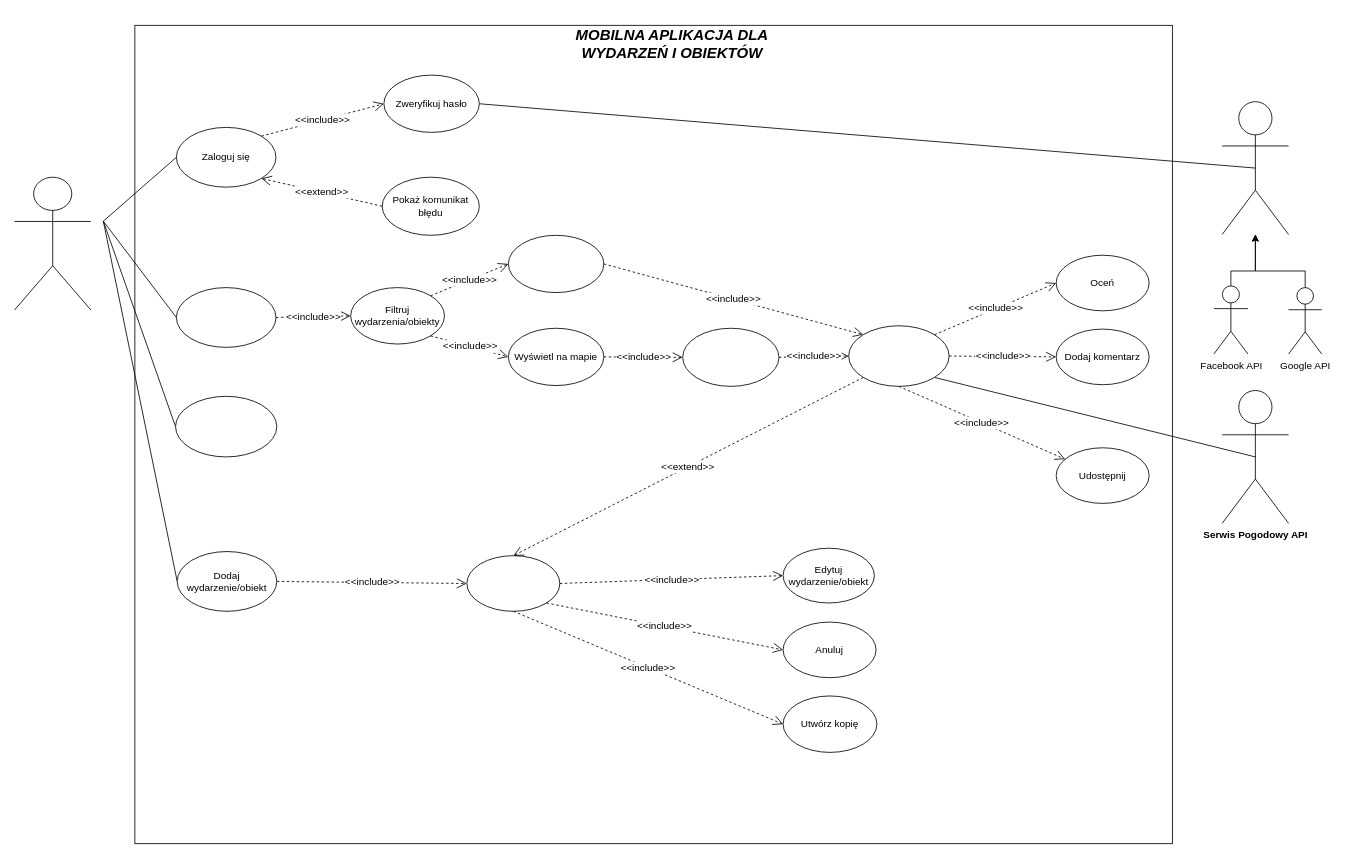
Some shapes in this 1345 by 858 pixel diagram are drawn without their labels. The shapes that lost their labels are listed below. From the top down, each one's centre as x and y in pixels, then its label:
the point at 1255,167: Serwis Uwierzytelniania
the point at 52,243: Użytkownik
the point at 556,263: Wyświetl na liście
the point at 226,317: Pokaż mapę
the point at 730,356: Pokaż nagłówek wydarzenia/obiektu
the point at 898,355: Wyświetl pełen opis wydarzenia/obiektu
the point at 226,426: Wyświetl listę moich wydarzeń/ obi ektów
the point at 513,583: Zarządzaj wydarzeniem/ obiektem
